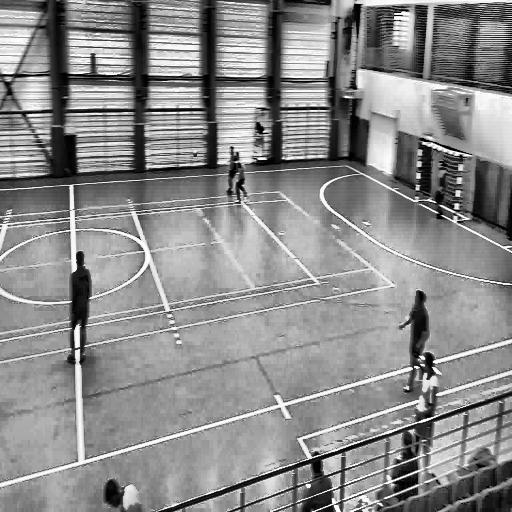ball: (192, 147, 199, 162)
player: (410, 352, 437, 478), (397, 289, 426, 391), (68, 250, 91, 367), (434, 160, 447, 223), (236, 152, 249, 206), (225, 142, 236, 196)
